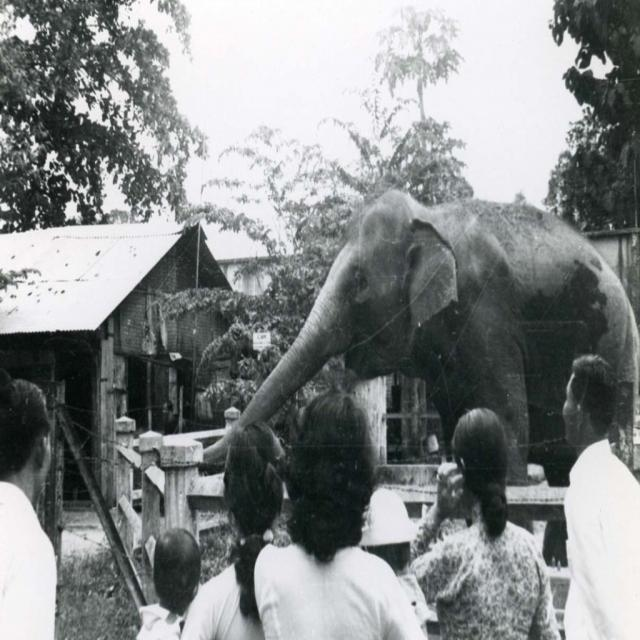elephant: (199, 189, 639, 564)
